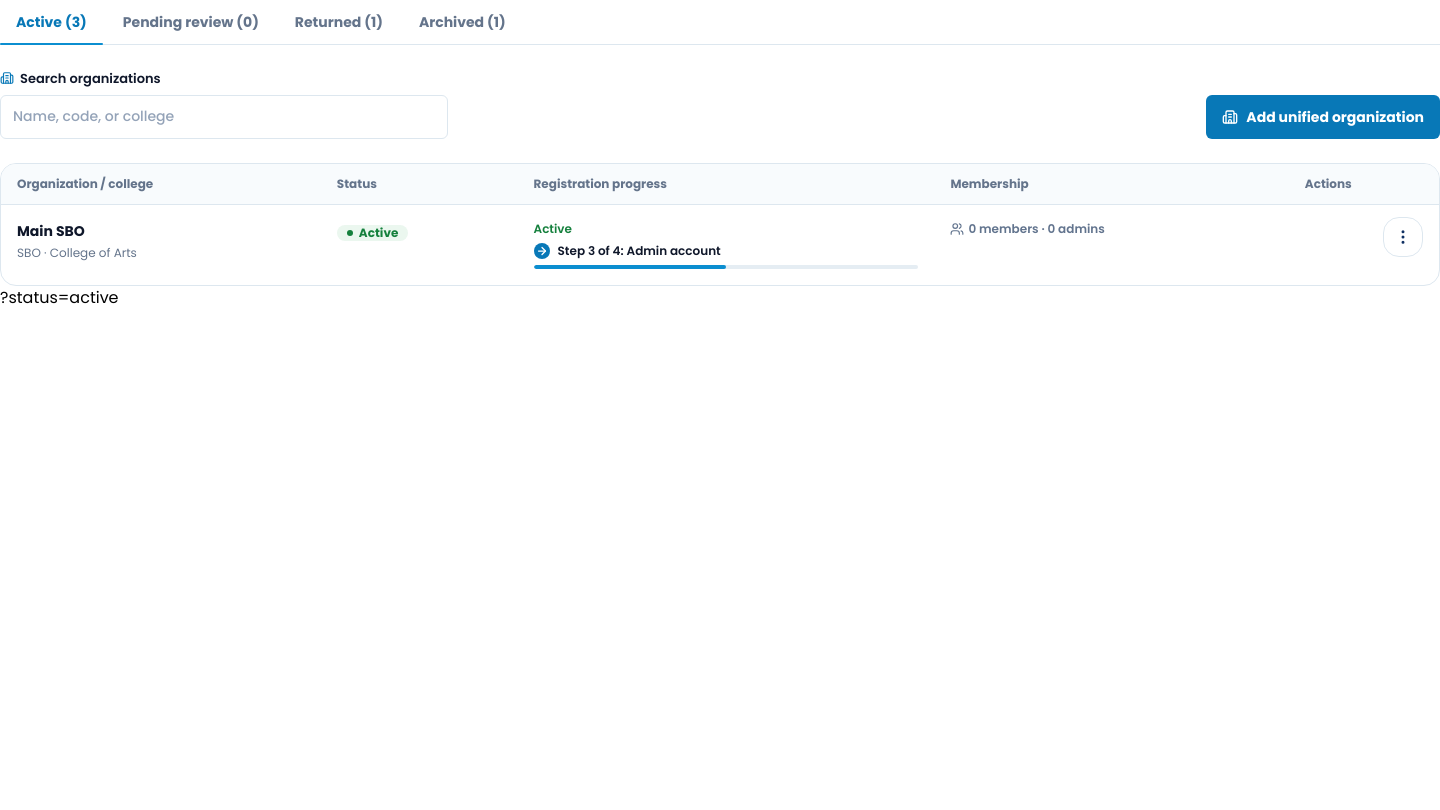
Test case: SystemOrganizationsPage › keeps the register usable when parent options fail and lets the edit form retry
Expected: the heading "Main SBO" is shown, 17,220 -> 85,240
Click the button named "Actions for Main SBO". click: (1403, 236)
box: 1383,216 -> 1423,256
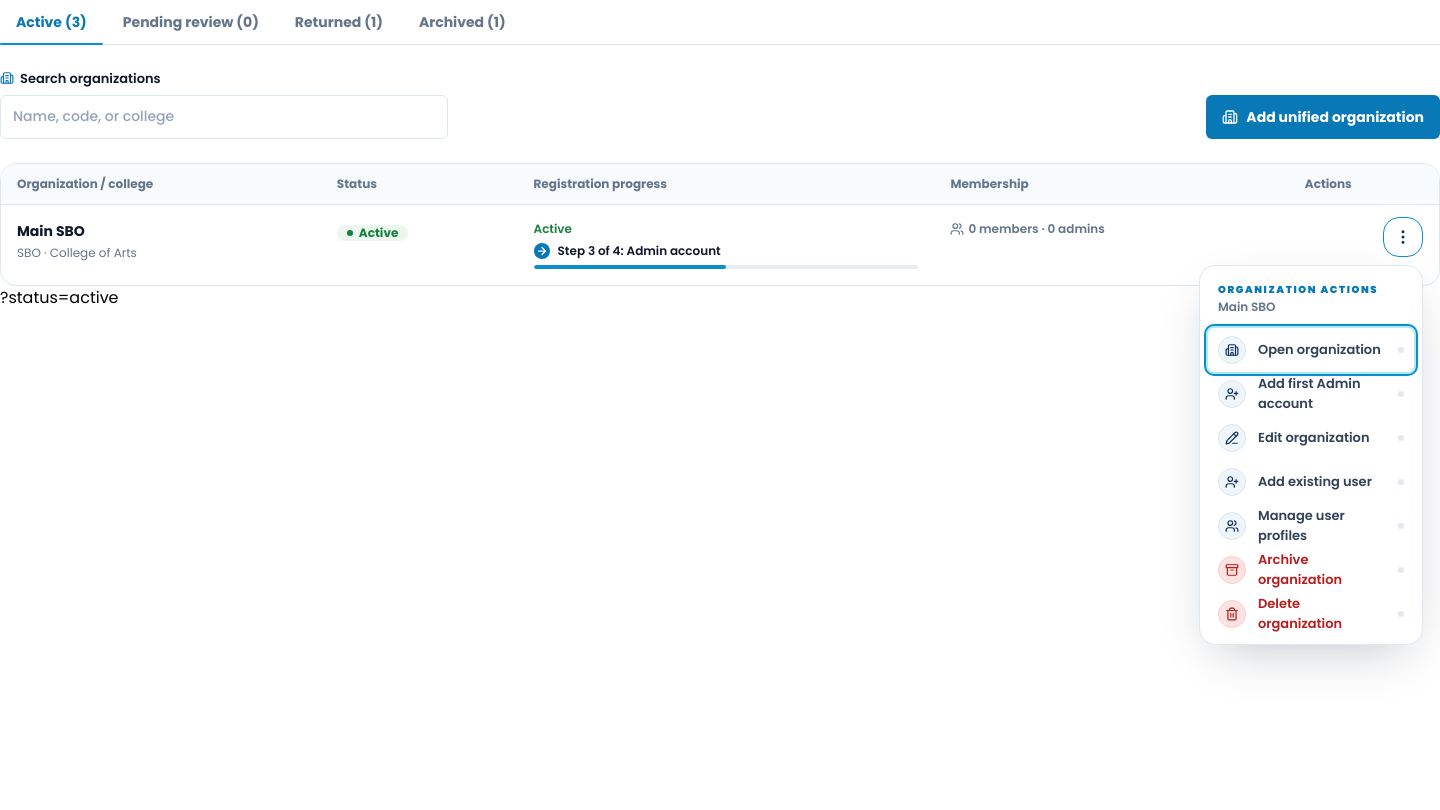
Click the menu item "Edit organization". click: (1311, 438)
box: 1208,416 -> 1414,460
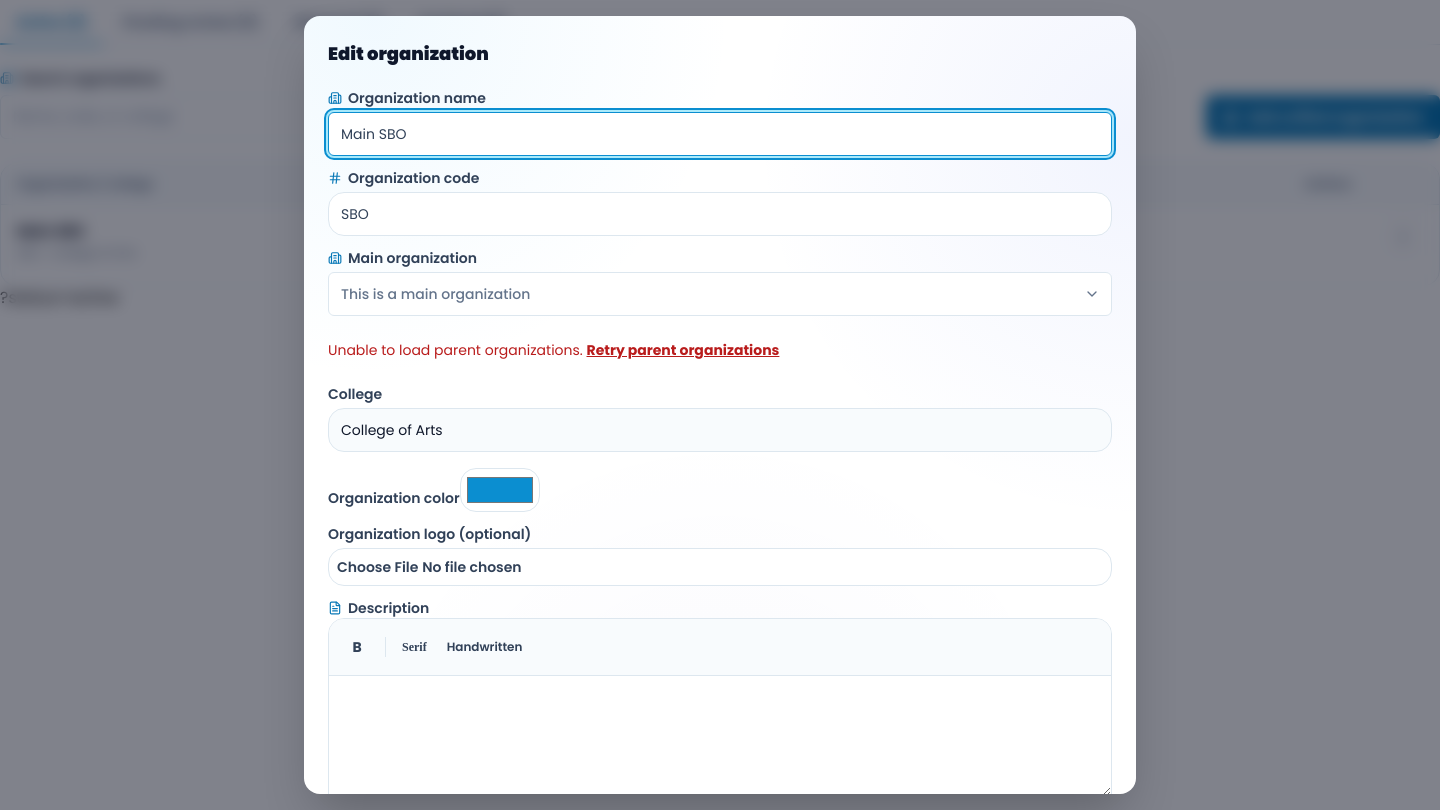
Result: the message shows "Unable to load parent organizations." at 328,340 -> 583,360
Click the button "Retry parent organizations". click: (683, 350)
box: 586,328 -> 779,372
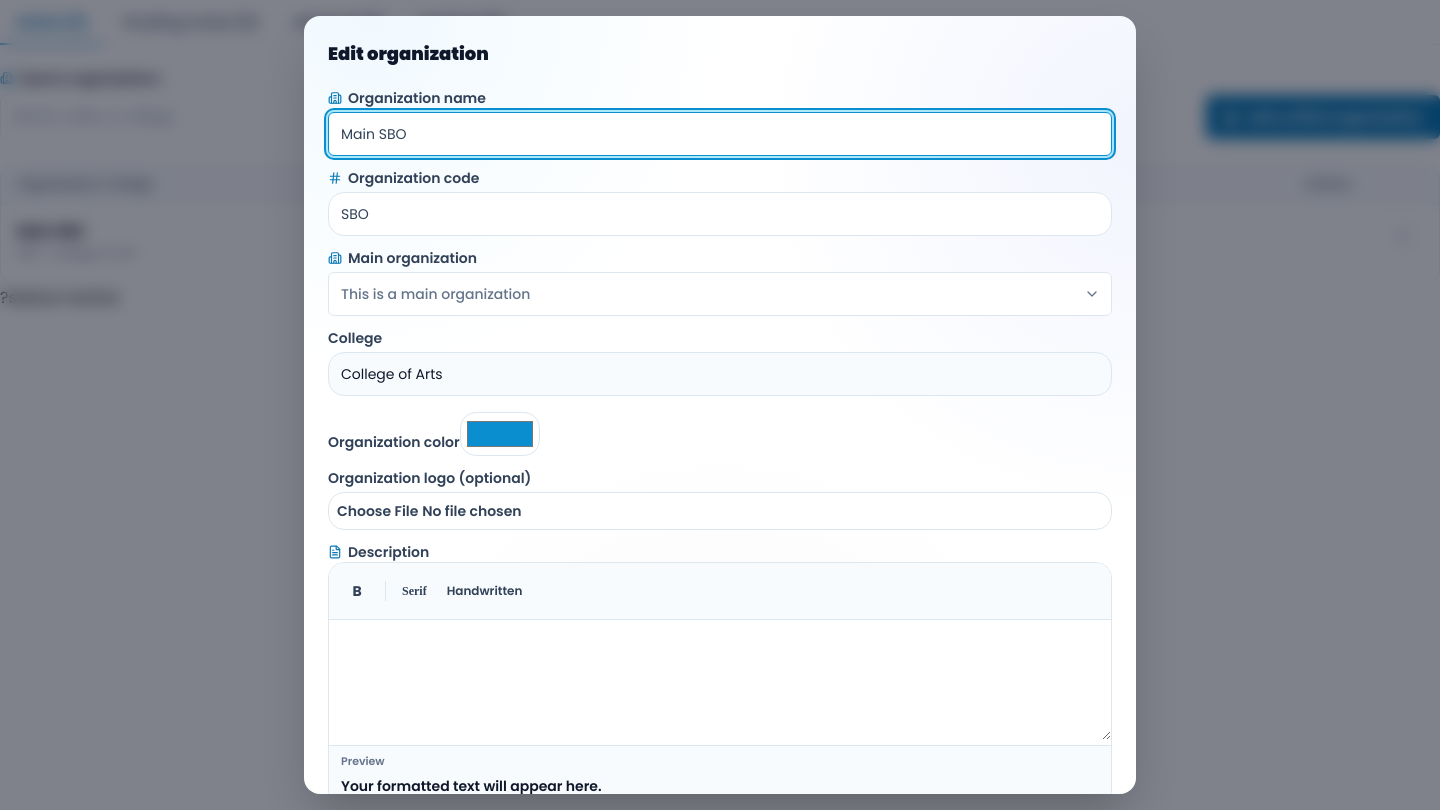
Result: the message "Unable to load parent organizations. Retry parent organizations" is gone
